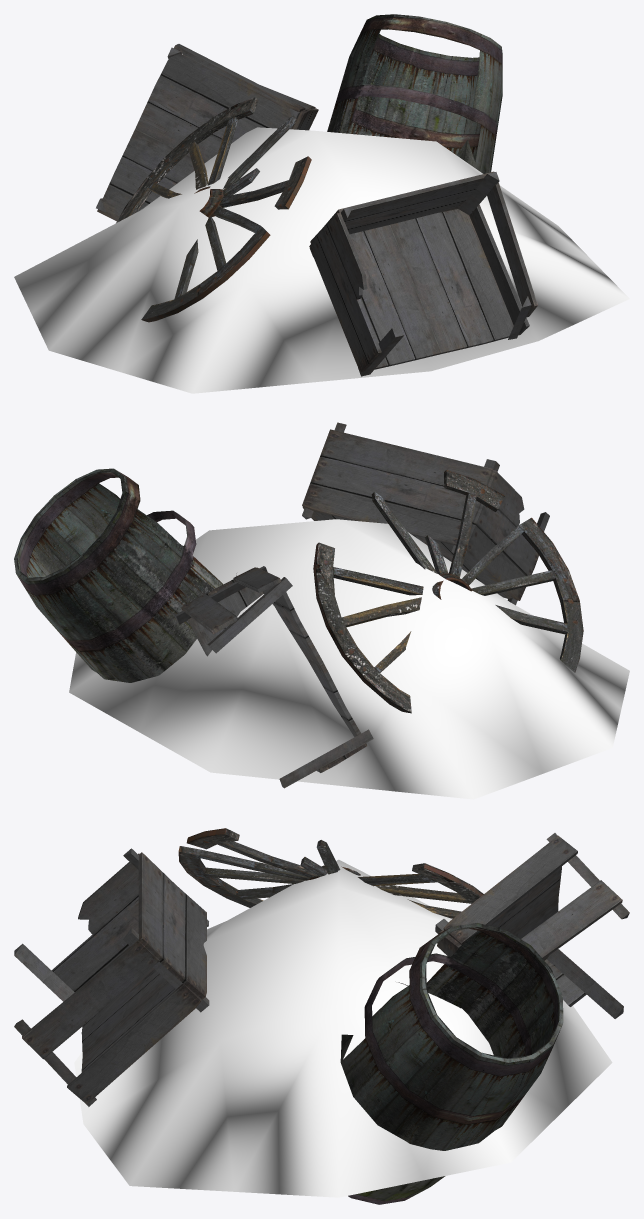
Rendered from scrap_pile.fbx.
The picture shows the model from 3 angles, top to bottom: view 1: azimuth 30°, elevation 25°; view 2: azimuth 150°, elevation 25°; view 3: azimuth 270°, elevation 25°; orthographic projection. The views are drawn at different scales.
Visible parts, largest first — view 1: Mesh Object; view 2: Mesh Object; view 3: Mesh Object.
Part boxes in pixels (left/top/right/bottom): Mesh Object: left=14, top=14, right=629, bottom=393; Mesh Object: left=14, top=422, right=629, bottom=799; Mesh Object: left=14, top=828, right=629, bottom=1204.
Size of the model in its own units: 202 by 99.97 by 187.
